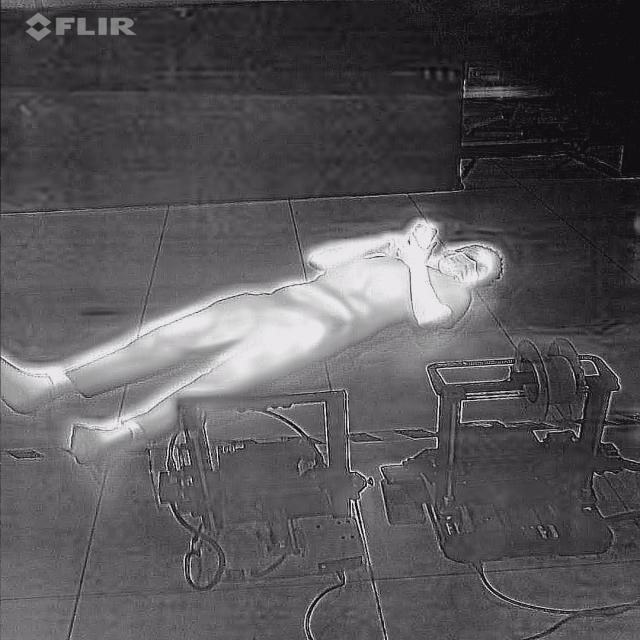Victim: (1, 211, 515, 469)
